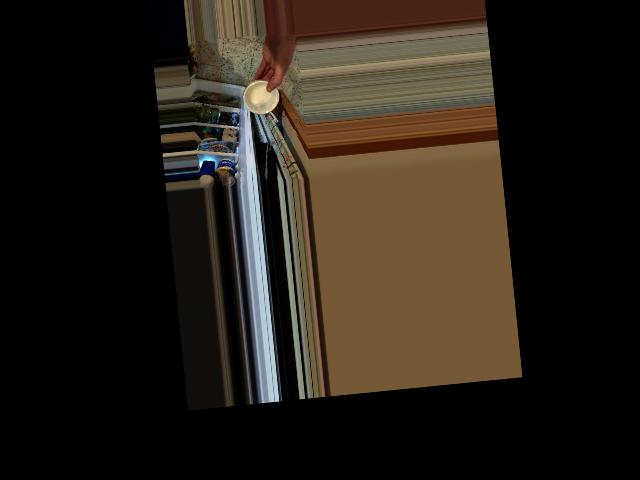cotage: (241, 77, 278, 117)
